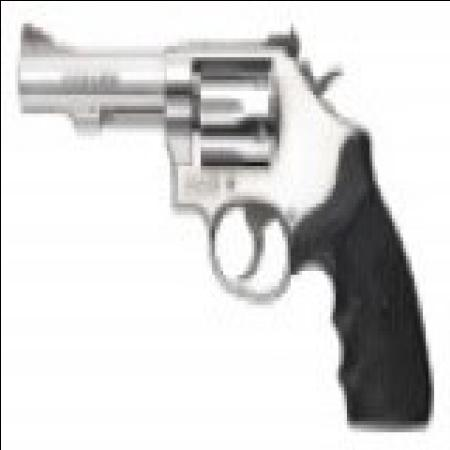Pistol: (25, 18, 441, 424)
